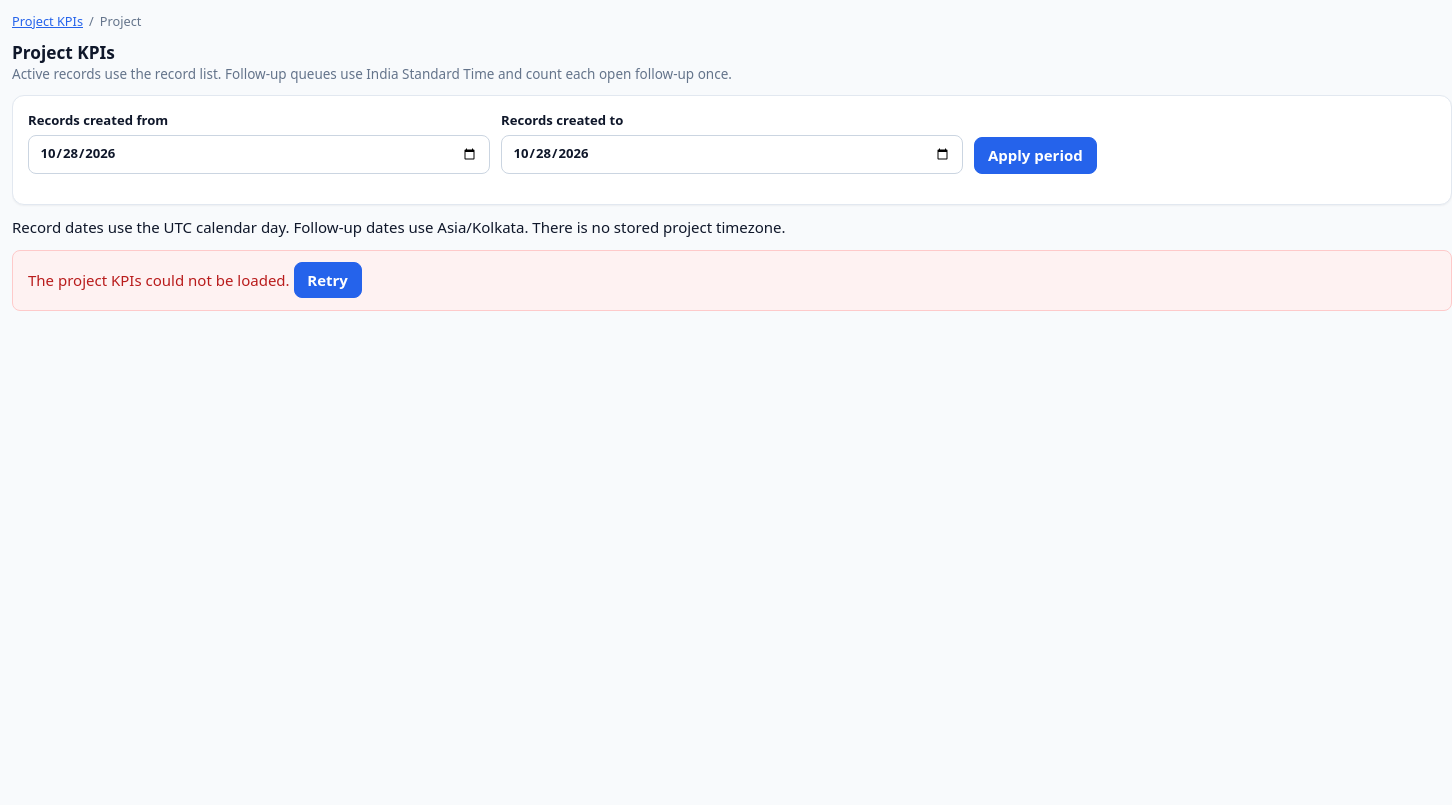
Test: shows an error and retries the KPI request
Expected: the message shows "The project KPIs could not be loaded.", 28,270 -> 290,290
Click the button "Retry".
click(328, 280)  # box 294,262 -> 362,298
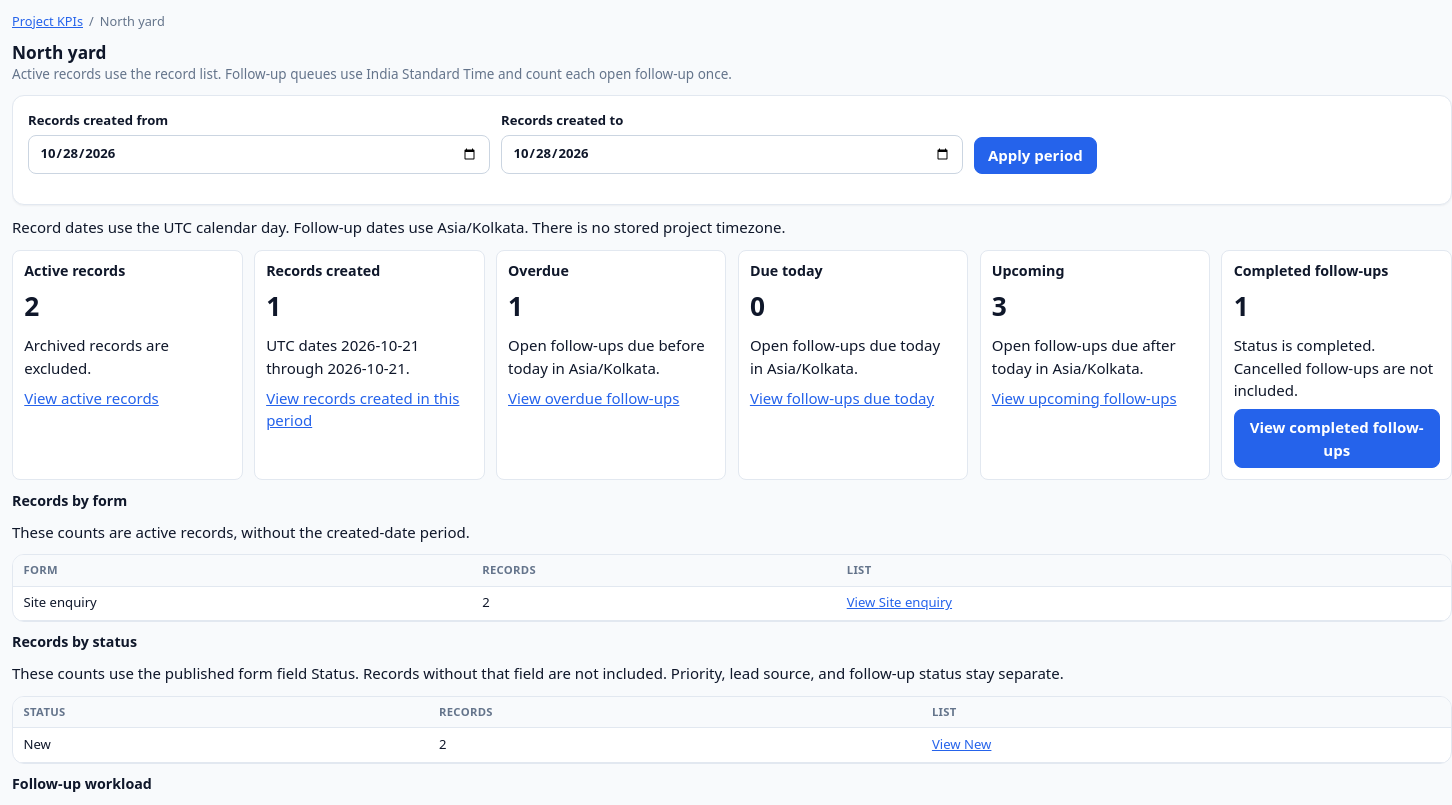
Expected: the link "View active records" is shown, 24,388 -> 159,408
